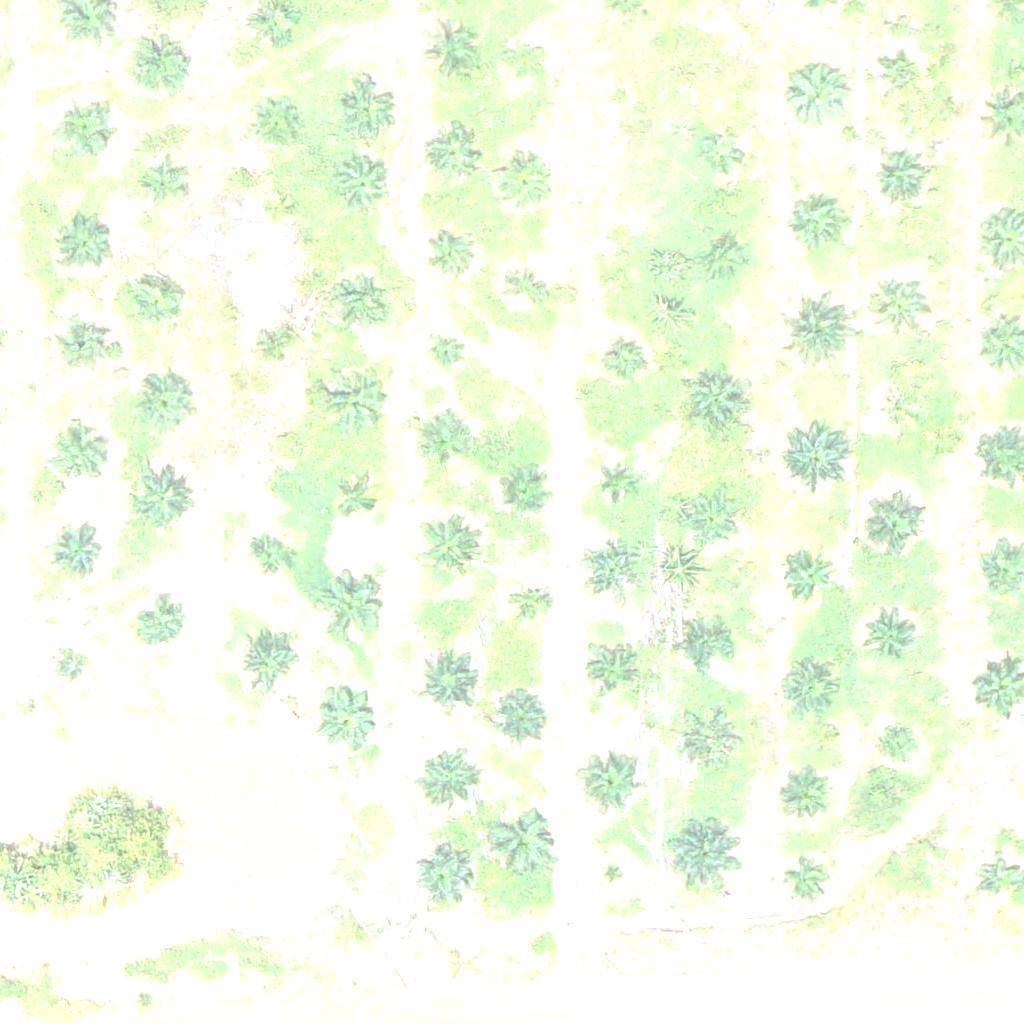Kelapa_Sawit: (123, 28, 198, 104), (318, 354, 393, 430), (665, 816, 740, 892), (479, 803, 554, 879), (777, 297, 852, 372), (779, 411, 854, 486), (578, 533, 641, 596), (315, 574, 378, 637), (783, 61, 846, 124), (337, 79, 400, 142), (859, 495, 922, 558), (864, 602, 927, 665), (412, 751, 475, 814), (311, 683, 374, 746), (579, 752, 642, 815), (411, 848, 474, 911), (414, 515, 476, 578), (131, 463, 193, 526), (682, 371, 744, 434), (784, 188, 846, 251), (49, 426, 111, 489), (329, 271, 391, 334), (417, 23, 479, 86), (128, 373, 190, 436), (867, 145, 929, 208), (869, 274, 931, 337), (678, 711, 740, 774), (234, 628, 296, 691), (334, 158, 396, 220), (419, 653, 481, 715), (486, 681, 548, 743), (684, 498, 734, 549), (779, 549, 829, 600), (783, 662, 833, 713), (876, 720, 926, 771), (679, 620, 729, 670), (53, 530, 103, 580), (134, 597, 184, 647), (60, 314, 110, 364), (63, 108, 113, 158), (59, 218, 109, 268), (249, 91, 299, 141), (430, 126, 480, 176), (500, 158, 550, 208), (413, 421, 463, 471), (126, 274, 176, 324), (778, 773, 828, 823), (583, 643, 633, 693), (784, 854, 834, 904), (499, 468, 549, 518), (330, 477, 380, 527), (245, 534, 295, 584), (253, 317, 303, 367), (873, 54, 923, 104), (425, 230, 475, 280), (141, 164, 179, 202), (515, 589, 553, 627), (428, 332, 466, 370), (505, 43, 543, 81), (603, 226, 641, 264), (509, 268, 547, 306), (708, 242, 745, 280), (883, 391, 920, 429), (594, 464, 631, 502), (608, 340, 646, 377), (703, 130, 740, 167), (59, 650, 84, 675), (262, 192, 287, 217), (269, 427, 294, 452)
